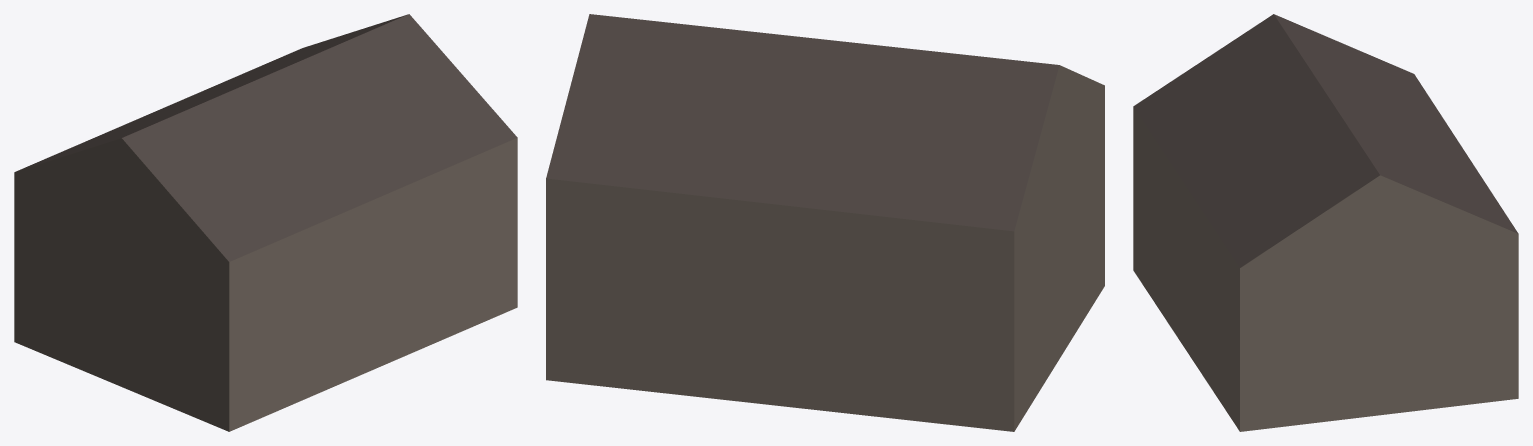
3 views of the same model, side by side, from view 1: azimuth 30°, elevation 25°; view 2: azimuth 150°, elevation 25°; view 3: azimuth 270°, elevation 25° (orthographic). The views are drawn at different scales.
Visible parts, largest first — view 1: HP-w1198843257; view 2: HP-w1198843257; view 3: HP-w1198843257.
Part boxes in pixels (x1,y1,x2,y2): HP-w1198843257: [14, 14, 517, 431]; HP-w1198843257: [546, 14, 1104, 431]; HP-w1198843257: [1133, 14, 1518, 431].
Size of the model in its own units: 15.26 by 8.79 by 12.81.
